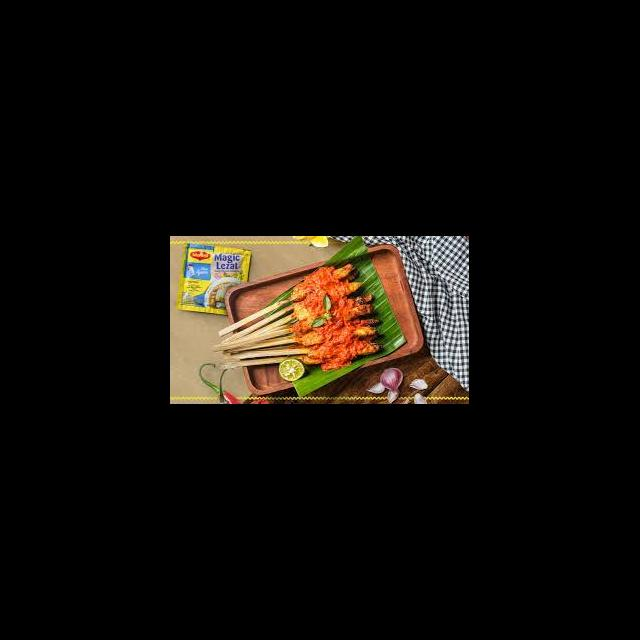food_waste: (292, 279, 395, 360)
